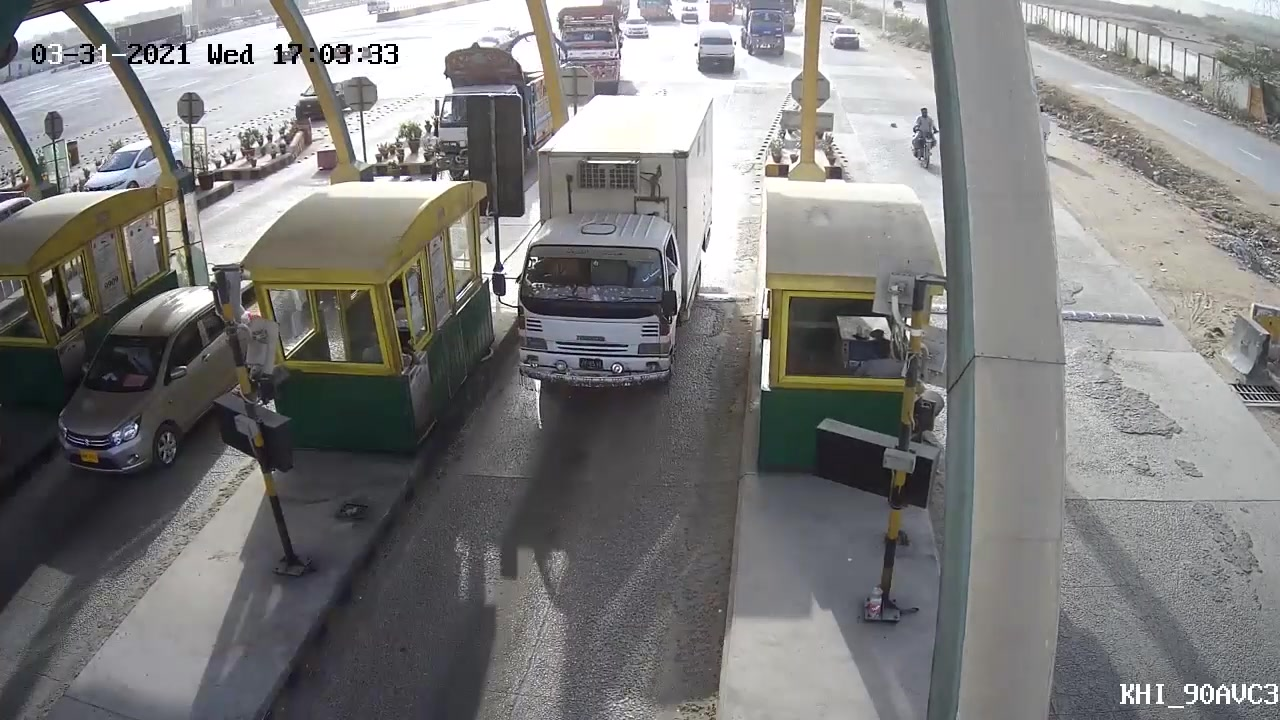F5: (500, 85, 732, 410)
